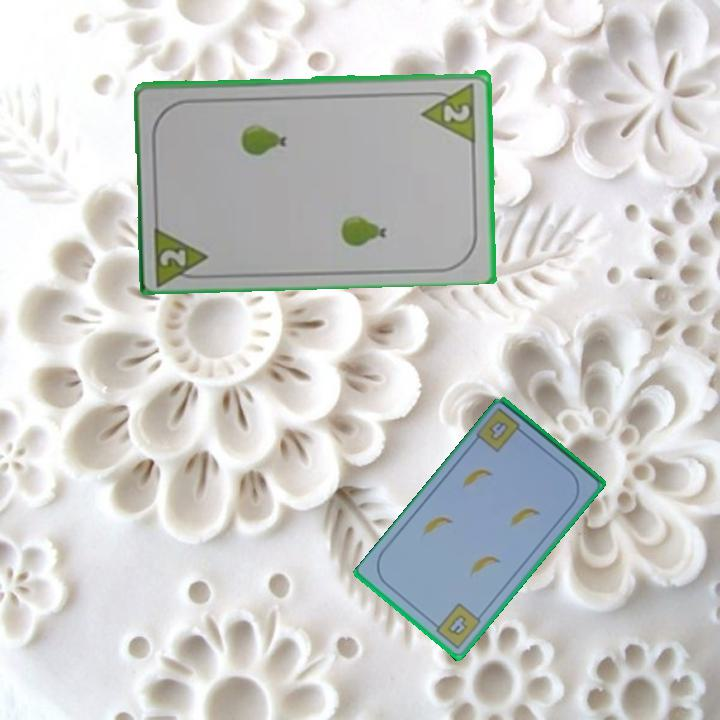2p: (418, 78, 479, 144), (156, 245, 190, 269)
4b: (428, 600, 484, 652), (485, 417, 512, 445)
